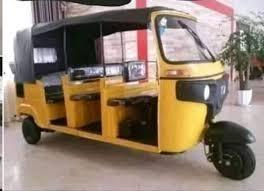keke: (14, 2, 255, 188)
